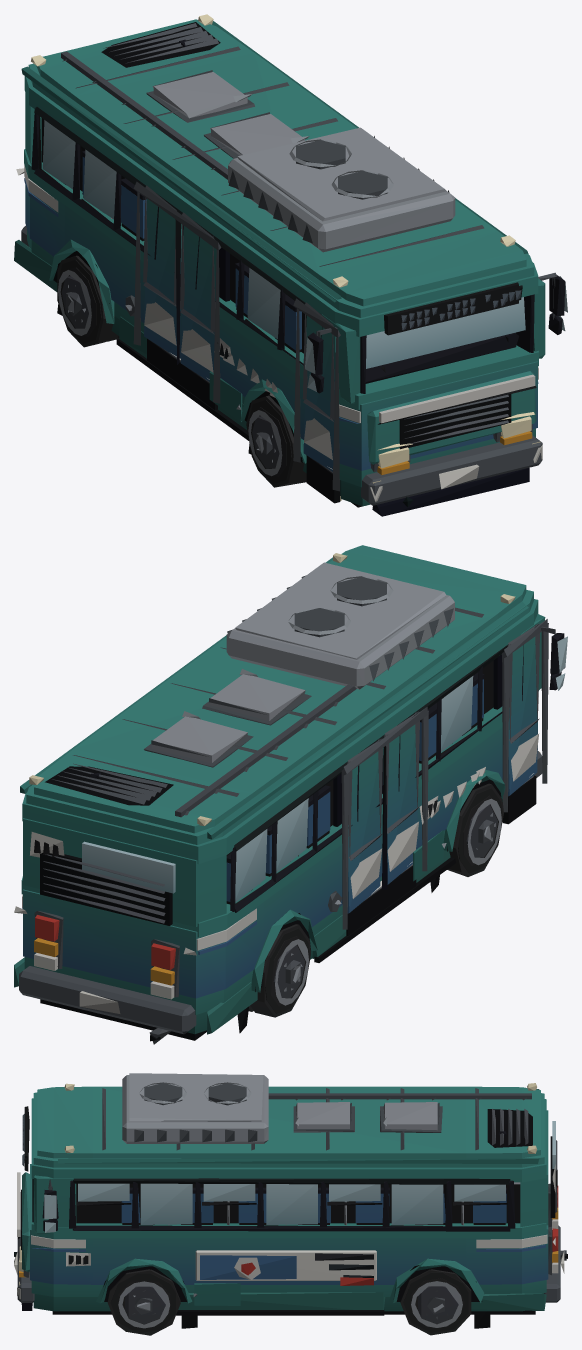
The model's file is hf-city-bus.glb.
3 renders of one model, top to bottom at view 1: azimuth 30°, elevation 25°; view 2: azimuth 150°, elevation 25°; view 3: azimuth 270°, elevation 25°, orthographic. The views are drawn at different scales.
Visible parts, largest first — view 1: city_bus_01; view 2: city_bus_01; view 3: city_bus_01.
Part boxes in pixels (bbox=[...]): city_bus_01: bbox=[14, 14, 567, 516]; city_bus_01: bbox=[14, 545, 567, 1044]; city_bus_01: bbox=[14, 1073, 567, 1335].
Bounding box in the file's own units: 1.91 × 1.91 × 4.69.
